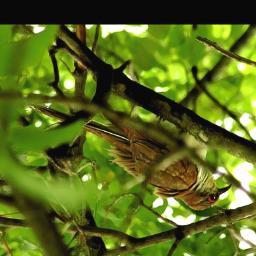Cuckoo: (28, 102, 233, 213)
